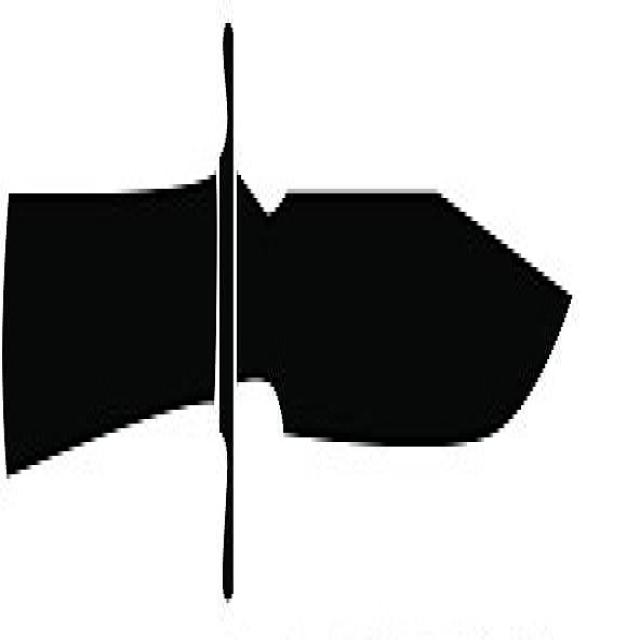knife: (2, 16, 585, 616)
